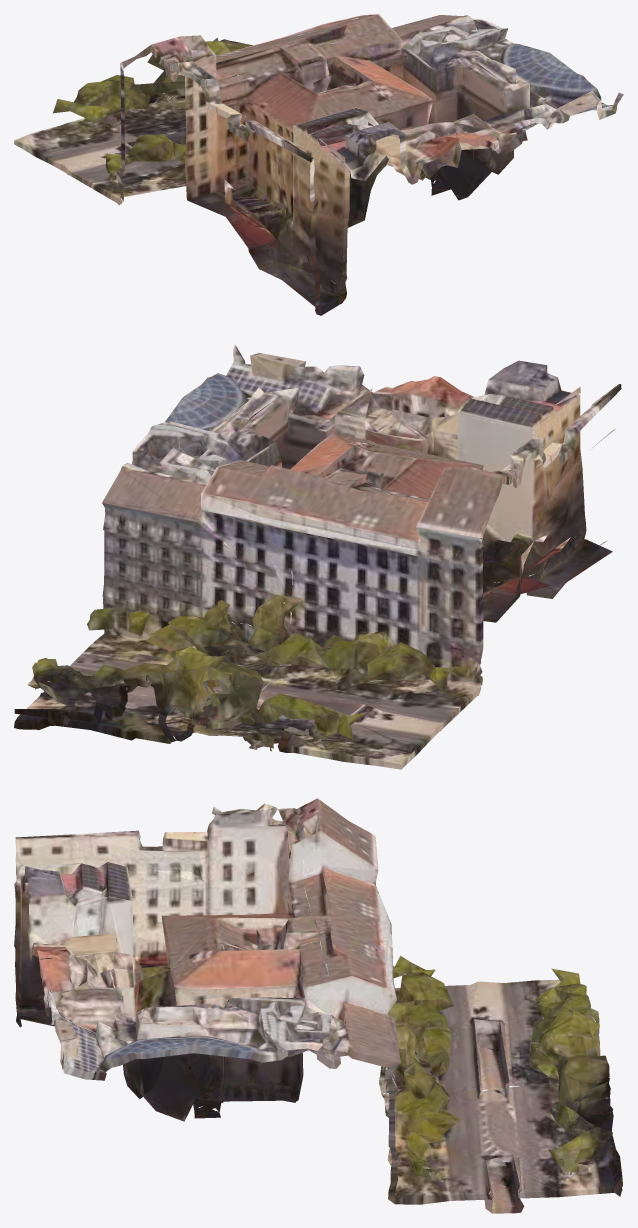
3 views of the same model, one above another, from view 1: azimuth 30°, elevation 25°; view 2: azimuth 150°, elevation 25°; view 3: azimuth 270°, elevation 25° (orthographic). The views are drawn at different scales.
Visible parts, largest first — view 1: Mesh_0; view 2: Mesh_0; view 3: Mesh_0.
Part boxes in pixels (x1=…): Mesh_0: x1=14, y1=14, x2=623, y2=315; Mesh_0: x1=14, y1=345, x2=621, y2=769; Mesh_0: x1=14, y1=798, x2=622, y2=1213.
Size of the model in its own units: 67.19 by 36.71 by 82.7.
Materials: 1 (1 with a texture image).
